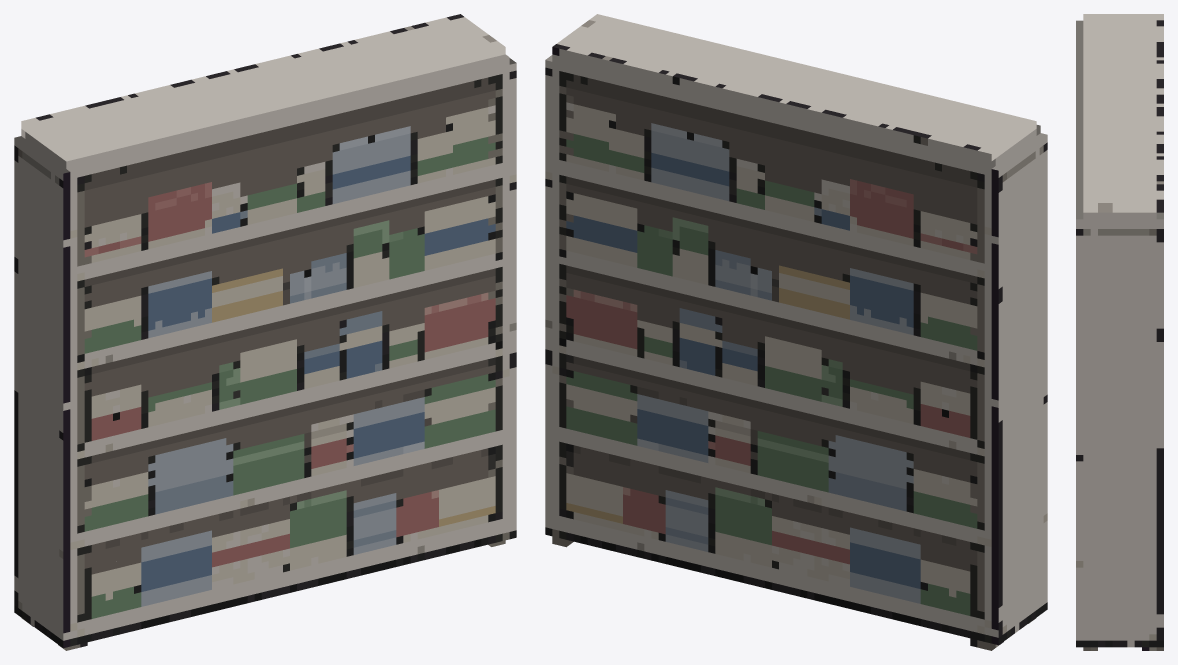
File: city_pharmacy_shelf.glb
3 renders of one model, left to right at view 1: azimuth 30°, elevation 25°; view 2: azimuth 150°, elevation 25°; view 3: azimuth 270°, elevation 25°, orthographic. The views are drawn at different scales.
Visible parts, largest first — view 1: city_pharmacy_shelf; view 2: city_pharmacy_shelf; view 3: city_pharmacy_shelf.
Boxes of the visible parts, x1,y1,x2,y2 form: city_pharmacy_shelf: [14, 14, 516, 650]; city_pharmacy_shelf: [545, 14, 1047, 650]; city_pharmacy_shelf: [1076, 14, 1163, 650].
Bounding box in the file's own units: 2 × 2.09 × 0.375.
